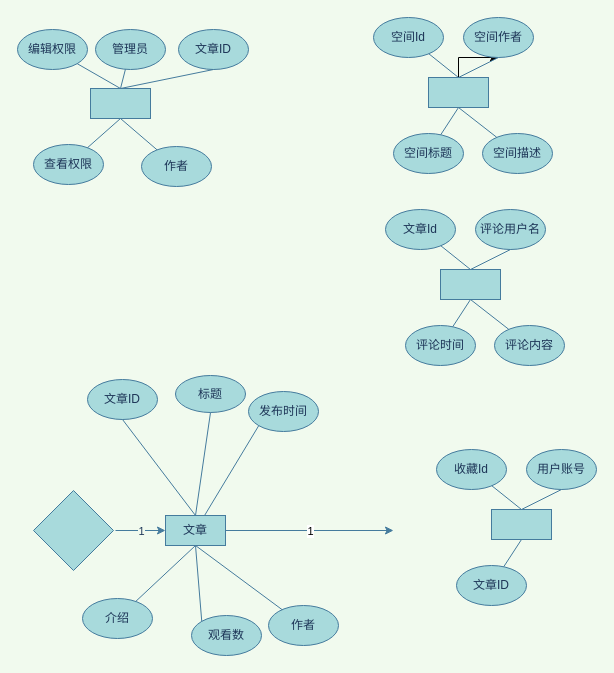
The diagram is 614 pixels wide and 673 high, and some of its shapes have lost their labels. Each missing label, with the centre of its shape:
"团队空间" goes at (458,92).
"归属" goes at (73,530).
"收藏" goes at (521,524).
"文章权限" goes at (120,103).
"评论" goes at (470,284).
